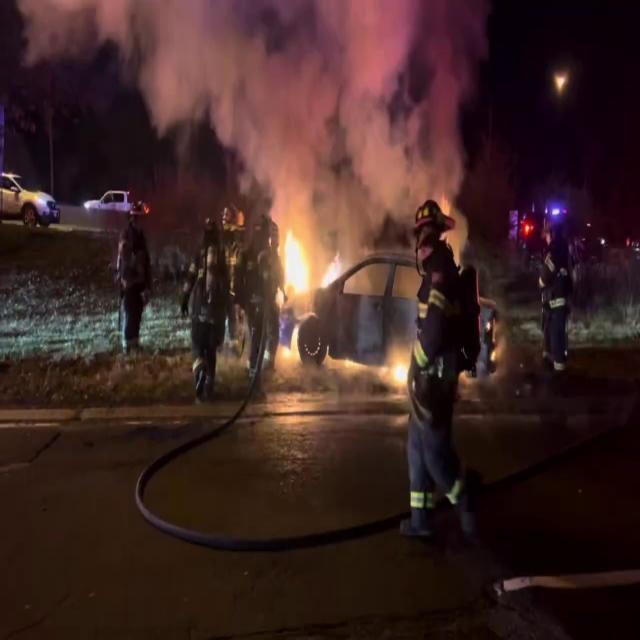Fire: (274, 218, 318, 302), (383, 348, 413, 392)
Smoke: (140, 0, 490, 217)
